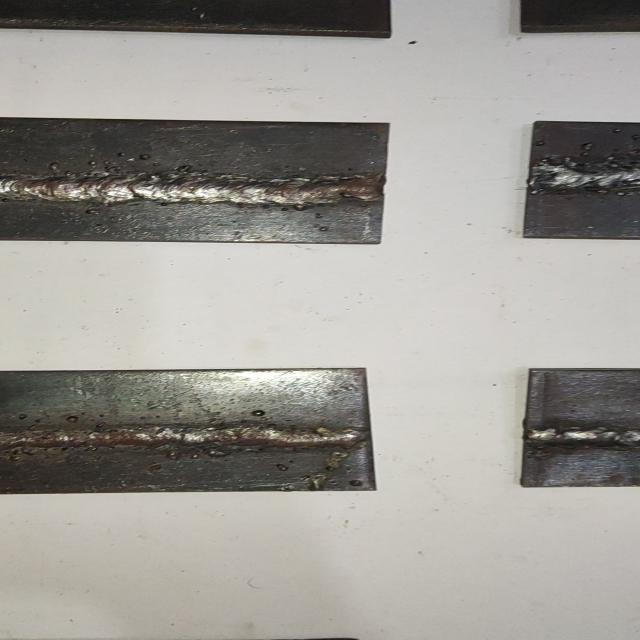Defect: (529, 159, 640, 198)
Welding Line: (0, 173, 378, 207), (3, 424, 364, 454), (530, 422, 638, 450)
Workpiece: (0, 364, 384, 498), (0, 116, 396, 245), (517, 117, 640, 242), (517, 366, 640, 490)
